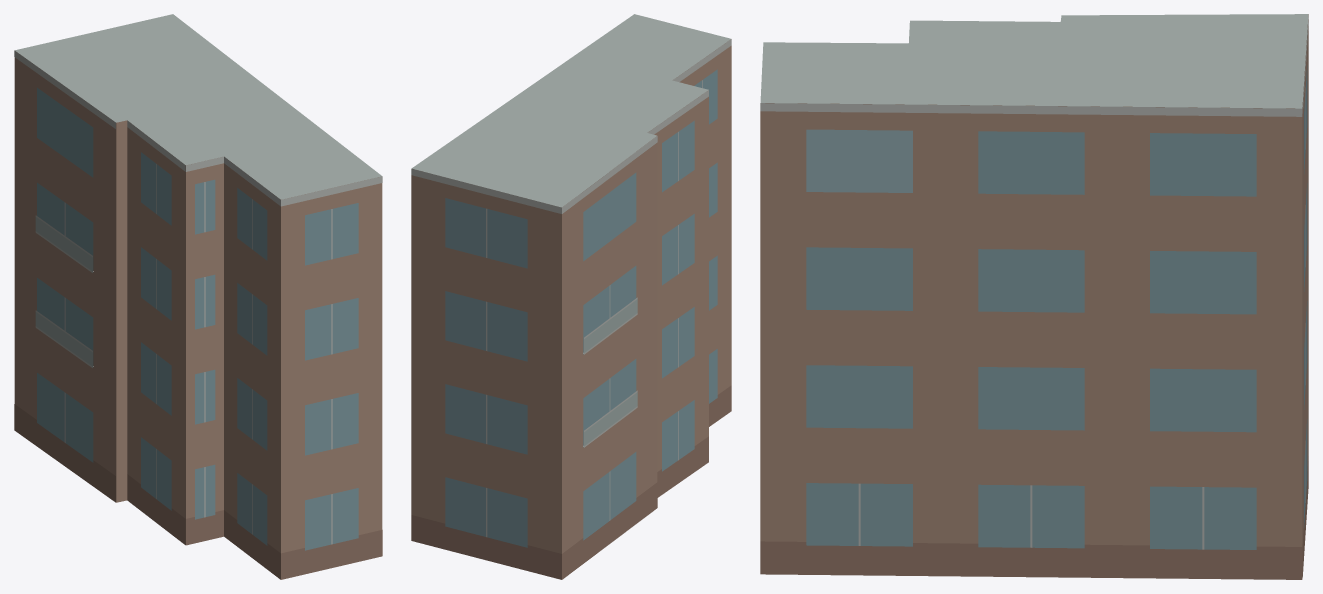
File: survey-upis-32967938.glb
3 views of the same model, side by side, from view 1: azimuth 30°, elevation 25°; view 2: azimuth 150°, elevation 25°; view 3: azimuth 270°, elevation 25° (orthographic). The views are drawn at different scales.
Parts seen in each view (by area): view 1: survey-upis-32967938.tmp; view 2: survey-upis-32967938.tmp; view 3: survey-upis-32967938.tmp.
Part boxes in pixels (x1,y1,x2,y2): survey-upis-32967938.tmp: [14, 14, 382, 579]; survey-upis-32967938.tmp: [411, 14, 731, 579]; survey-upis-32967938.tmp: [760, 14, 1308, 579].
Bounding box in the file's own units: 5.94 × 13.75 × 14.5.
